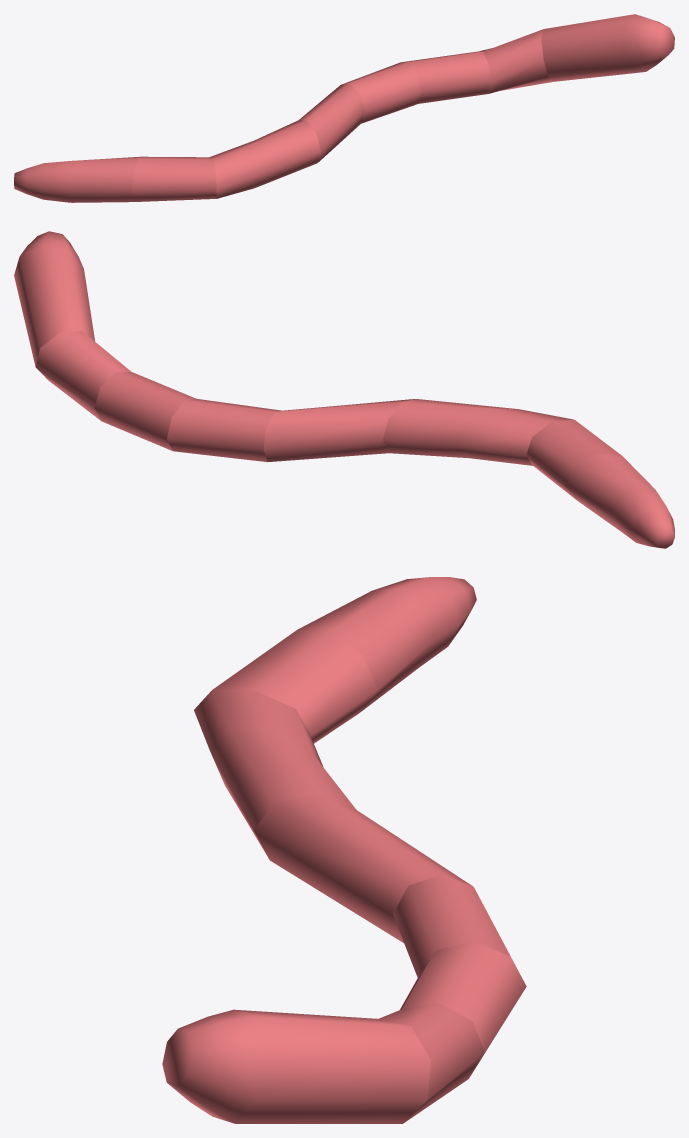
Rendered from worm.fbx.
3 renders of one model, top to bottom at view 1: azimuth 30°, elevation 25°; view 2: azimuth 150°, elevation 25°; view 3: azimuth 270°, elevation 25°, orthographic. The views are drawn at different scales.
Visible parts, largest first — view 1: worm; view 2: worm; view 3: worm.
Part boxes in pixels (left/top/right/bottom): worm: left=14, top=14, right=674, bottom=202; worm: left=14, top=231, right=674, bottom=548; worm: left=162, top=577, right=526, bottom=1123.
Size of the model in its own units: 183 by 25.45 by 48.38.
